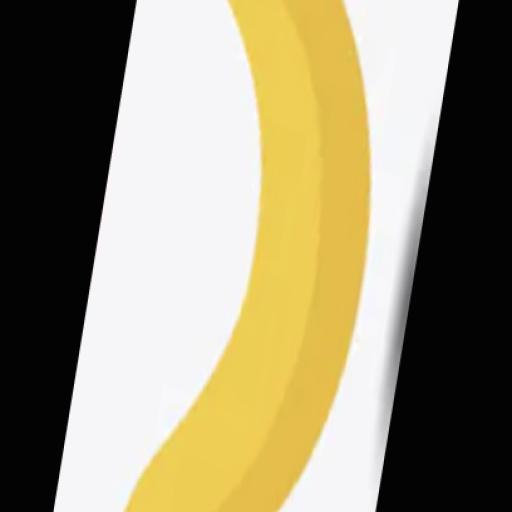banana-ripe: (143, 0, 388, 512)
